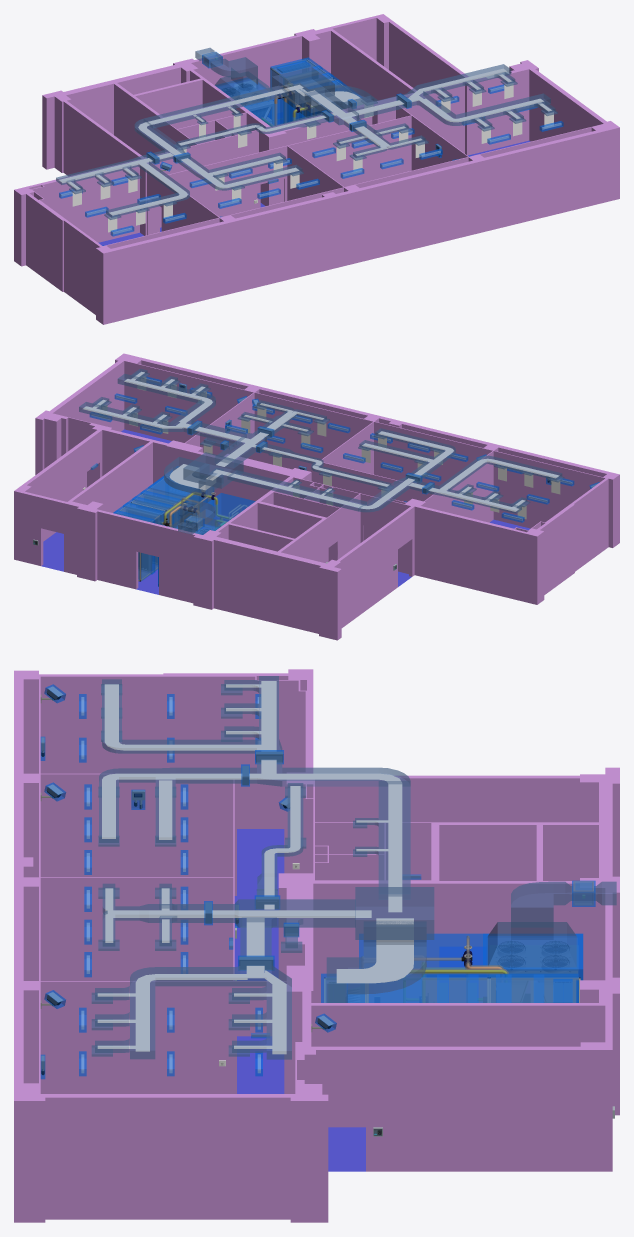
The model's file is zjsys.obj.
3 views of the same model, one above another, from view 1: azimuth 30°, elevation 25°; view 2: azimuth 150°, elevation 25°; view 3: azimuth 270°, elevation 25° (orthographic). The views are drawn at different scales.
Visible parts, largest first — view 1: WL, ES_00, ES_27, AF_021, VS_00_000, VG_000, VG_001, VG_024, VG_022, VG_023, AF_025, AF_002 (+6 smaller); view 2: WL, ES_00, VG_001, GR, KK_001, AF_021, ES_27, VG_000, VG_023, VG_024, VG_022, VG_025 (+8 smaller); view 3: WL, ES_00, GR, ES_27, VG_001, AF_021, KK_001, VS_00_000, VG_000, AF_001, AF_002, AF_025 (+11 smaller).
Boxes of the visible parts, left/top/right/bottom form: WL: left=14, top=14, right=619, bottom=324; ES_00: left=56, top=64, right=555, bottom=217; ES_27: left=195, top=48, right=274, bottom=106; AF_021: left=138, top=85, right=303, bottom=188; VS_00_000: left=217, top=78, right=279, bottom=124; VG_000: left=244, top=99, right=306, bottom=126; VG_001: left=270, top=57, right=361, bottom=116; VG_024: left=312, top=128, right=442, bottom=178; VG_022: left=59, top=176, right=186, bottom=236; VG_023: left=189, top=158, right=319, bottom=208; AF_025: left=109, top=162, right=187, bottom=215; AF_002: left=306, top=90, right=389, bottom=147; WL: left=14, top=353, right=619, bottom=640; ES_00: left=79, top=368, right=562, bottom=513; VG_001: left=113, top=466, right=214, bottom=581; GR: left=41, top=429, right=530, bottom=594; KK_001: left=118, top=480, right=211, bottom=579; AF_021: left=213, top=431, right=453, bottom=509; ES_27: left=170, top=499, right=220, bottom=534; VG_000: left=158, top=493, right=255, bottom=586; VG_023: left=343, top=433, right=468, bottom=481; VG_024: left=225, top=404, right=350, bottom=452; VG_022: left=451, top=468, right=574, bottom=522; VG_025: left=89, top=376, right=212, bottom=434; WL: left=14, top=669, right=619, bottom=1222; ES_00: left=95, top=676, right=434, bottom=1059; GR: left=234, top=829, right=482, bottom=1171; ES_27: left=487, top=881, right=616, bottom=970; VG_001: left=321, top=973, right=578, bottom=1002; AF_021: left=102, top=773, right=402, bottom=912; KK_001: left=326, top=979, right=575, bottom=1002; VS_00_000: left=483, top=933, right=583, bottom=1002; VG_000: left=359, top=933, right=582, bottom=1002; AF_001: left=336, top=918, right=413, bottom=983; AF_002: left=112, top=910, right=371, bottom=917; AF_025: left=104, top=684, right=262, bottom=750.
Bounding box in the file's own units: 32470 × 5841 × 19270.
